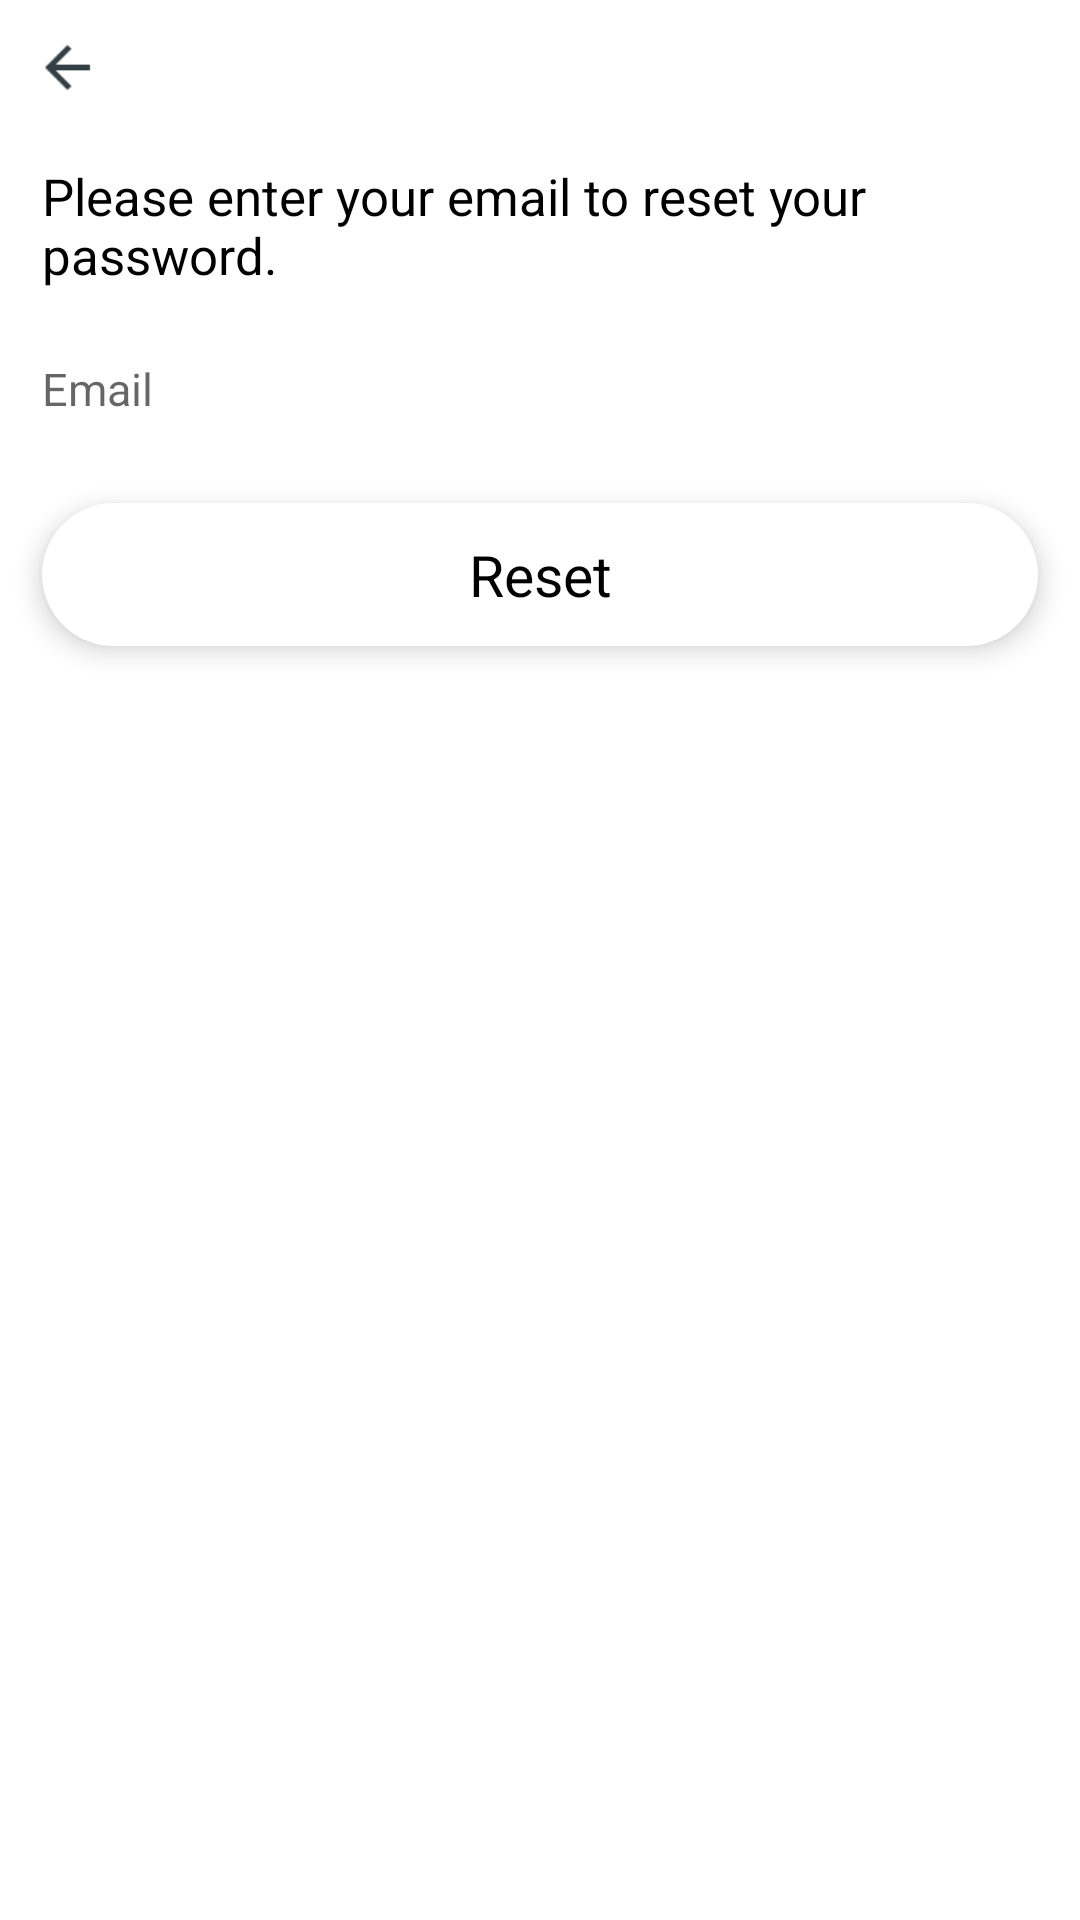

Icon bounding boxes for this 1080*1920 phone screenshot, format (x1, y1, x2, y2):
arrow left: (45, 45, 91, 90)
